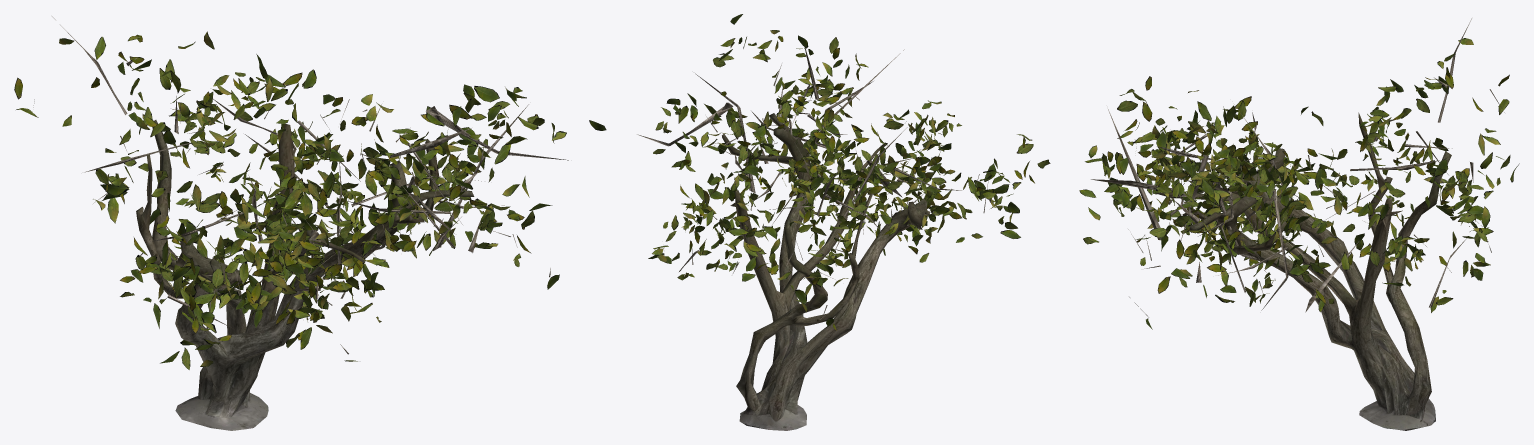
The model's file is island_tree_02_lod1.glb.
3 views of the same model, side by side, from view 1: azimuth 30°, elevation 25°; view 2: azimuth 150°, elevation 25°; view 3: azimuth 270°, elevation 25° (orthographic). The views are drawn at different scales.
Visible parts, largest first — view 1: island_tree_02_LOD0.002, island_tree_02_LOD0.001, island_tree_02_LOD0; view 2: island_tree_02_LOD0.002, island_tree_02_LOD0.001, island_tree_02_LOD0; view 3: island_tree_02_LOD0.002, island_tree_02_LOD0.001, island_tree_02_LOD0.
Boxes of the visible parts, <box> form: island_tree_02_LOD0.002: <box>14,31,606,369</box>; island_tree_02_LOD0.001: <box>136,120,474,430</box>; island_tree_02_LOD0: <box>32,16,568,354</box>; island_tree_02_LOD0.002: <box>648,14,1050,330</box>; island_tree_02_LOD0.001: <box>722,113,929,430</box>; island_tree_02_LOD0: <box>637,47,993,319</box>; island_tree_02_LOD0.002: <box>1079,38,1519,329</box>; island_tree_02_LOD0.001: <box>1154,112,1451,430</box>; island_tree_02_LOD0: <box>1091,18,1504,317</box>.
Bounding box in the file's own units: 4.28 × 3.48 × 4.03.
Materials: 3 (3 with a texture image).
